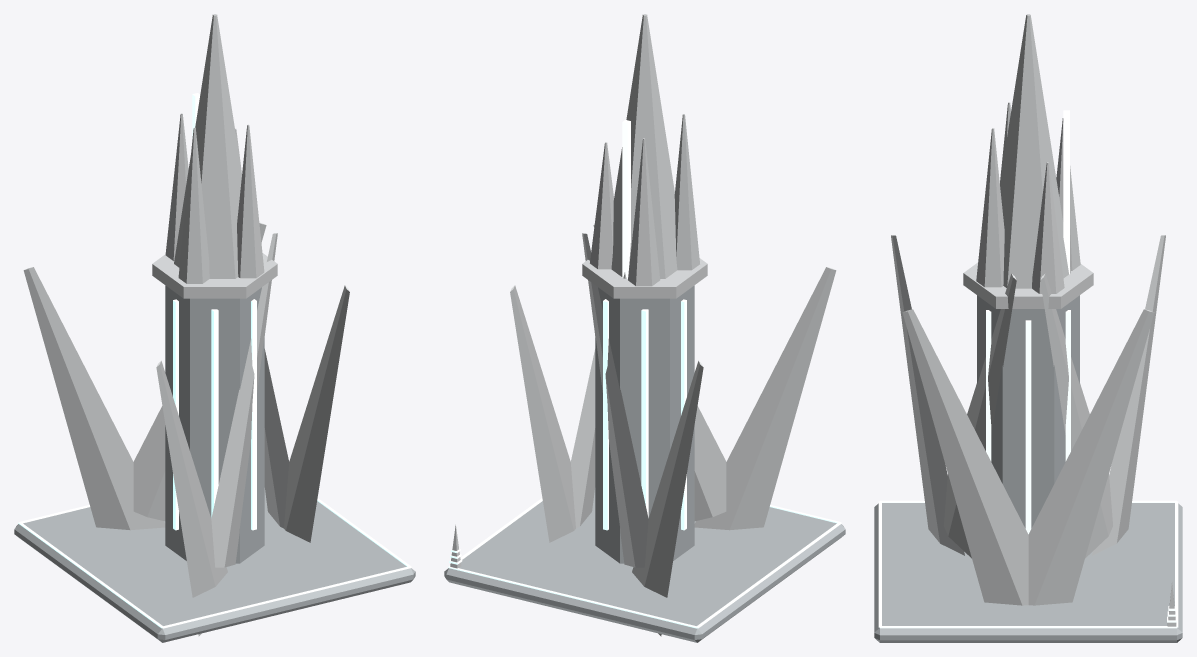
The model's file is zone_high_5_t3.glb.
3 renders of one model, left to right at view 1: azimuth 30°, elevation 25°; view 2: azimuth 150°, elevation 25°; view 3: azimuth 270°, elevation 25°, orthographic. The views are drawn at different scales.
Parts seen in each view (by area): view 1: zone_high_5_t3, detail; view 2: zone_high_5_t3, detail; view 3: zone_high_5_t3, detail.
Part boxes in pixels (left/top/right/bottom): zone_high_5_t3: left=14, top=14, right=415, bottom=642; detail: left=18, top=498, right=411, bottom=628; zone_high_5_t3: left=444, top=14, right=845, bottom=642; detail: left=448, top=498, right=841, bottom=628; zone_high_5_t3: left=874, top=14, right=1182, bottom=642; detail: left=878, top=500, right=1178, bottom=628.
Size of the model in its own units: 27.5 by 58.5 by 27.5.
